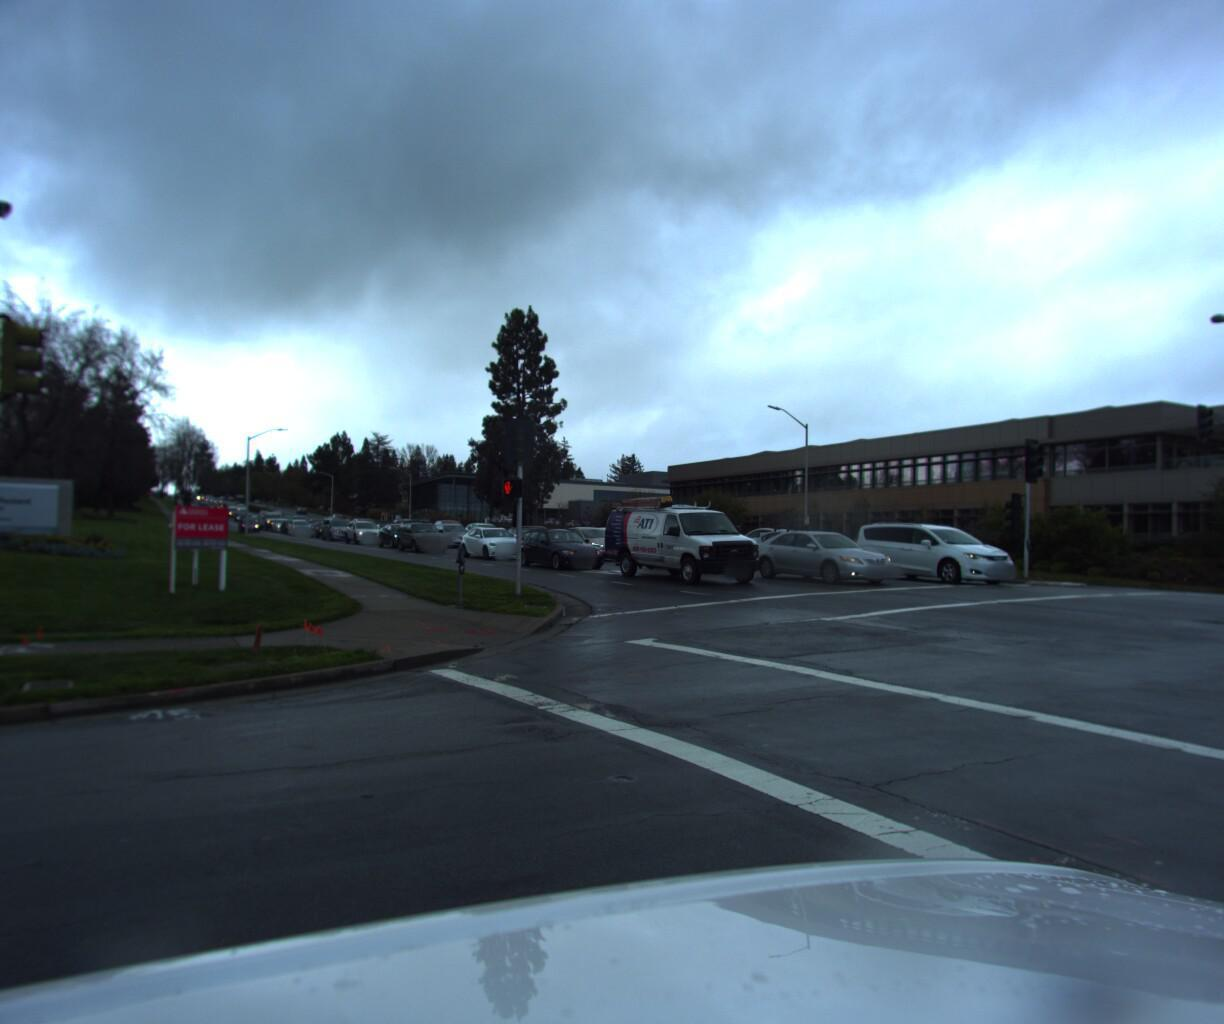car: (595, 484, 770, 582), (844, 520, 1024, 583), (744, 527, 901, 585), (739, 514, 867, 573), (509, 527, 612, 566), (721, 522, 818, 561), (548, 522, 634, 561), (460, 522, 532, 558), (396, 515, 454, 551), (425, 521, 481, 549), (342, 518, 390, 541), (320, 520, 359, 540), (289, 517, 316, 533)
